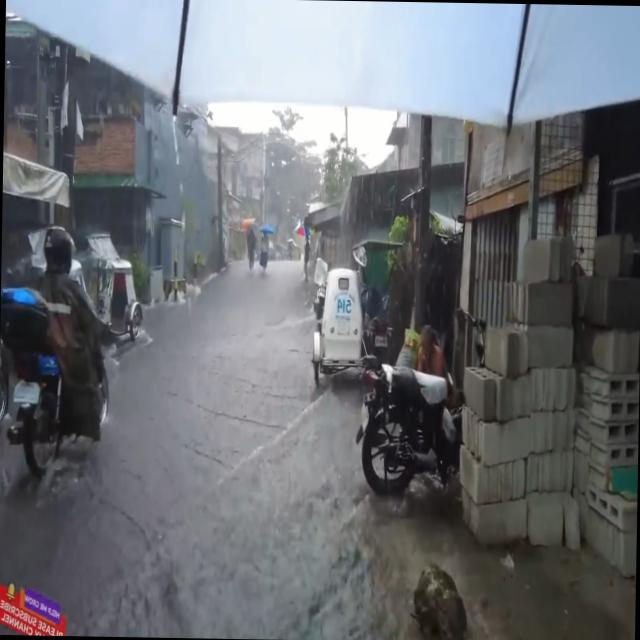half: (42, 226, 74, 276)
